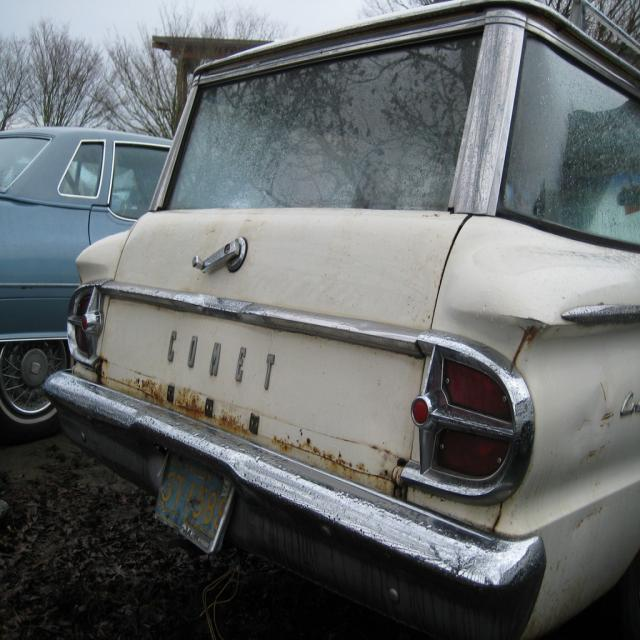car: (25, 40, 618, 613)
